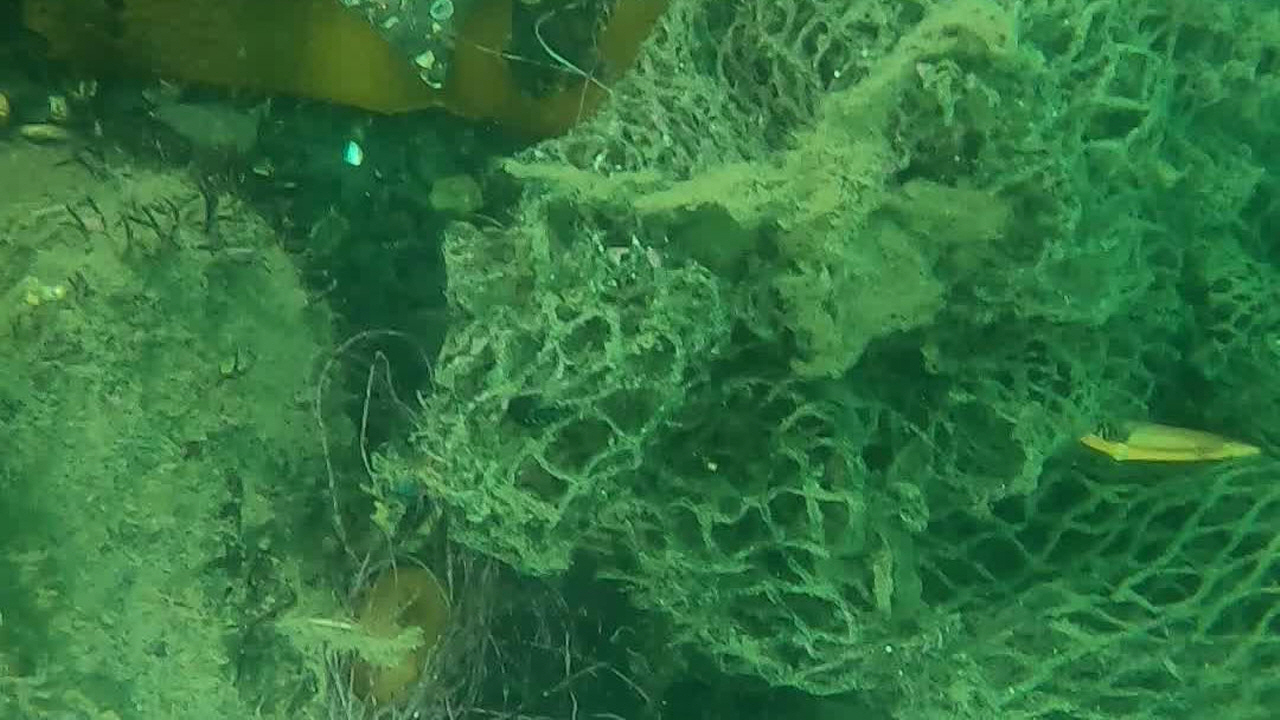fish net: (423, 0, 1280, 720)
